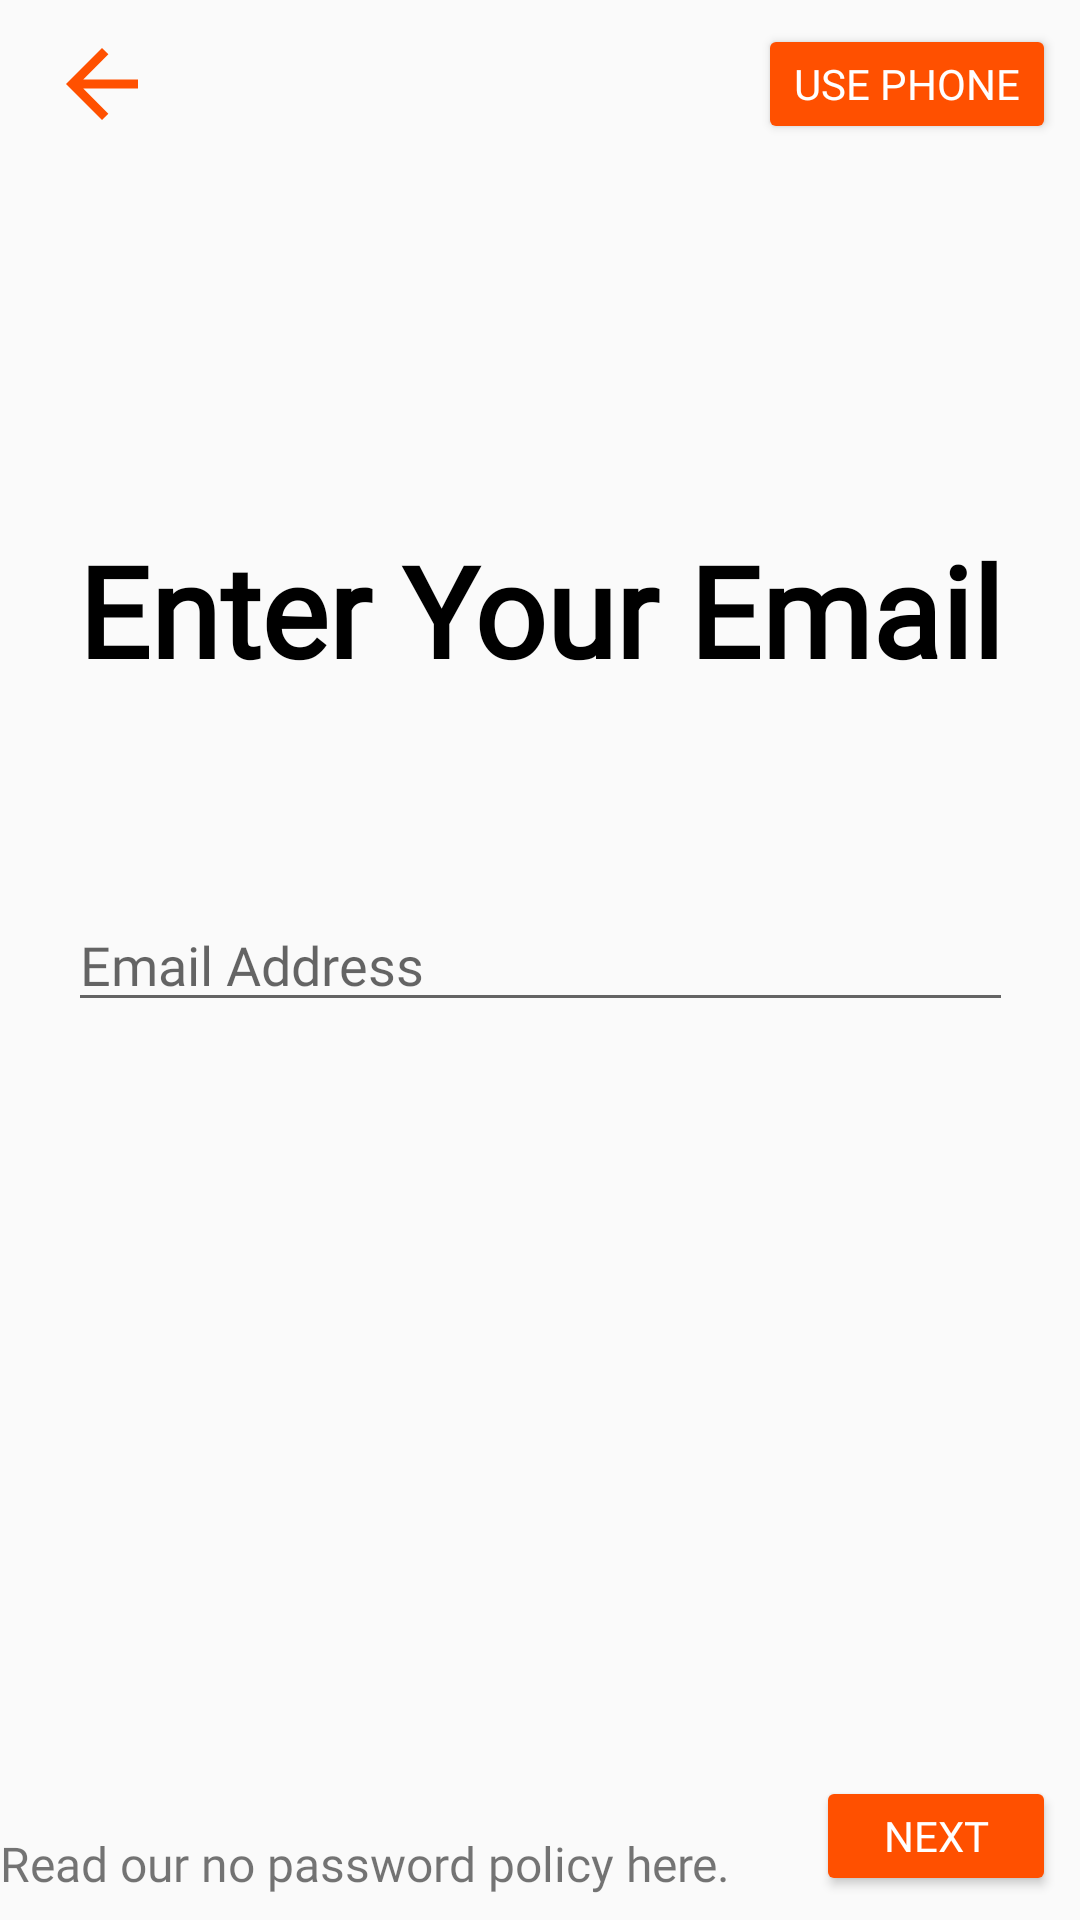

Icon click points for this 1080×1920 phone screenshot, format (x,y):
arrow back: (102,84)
